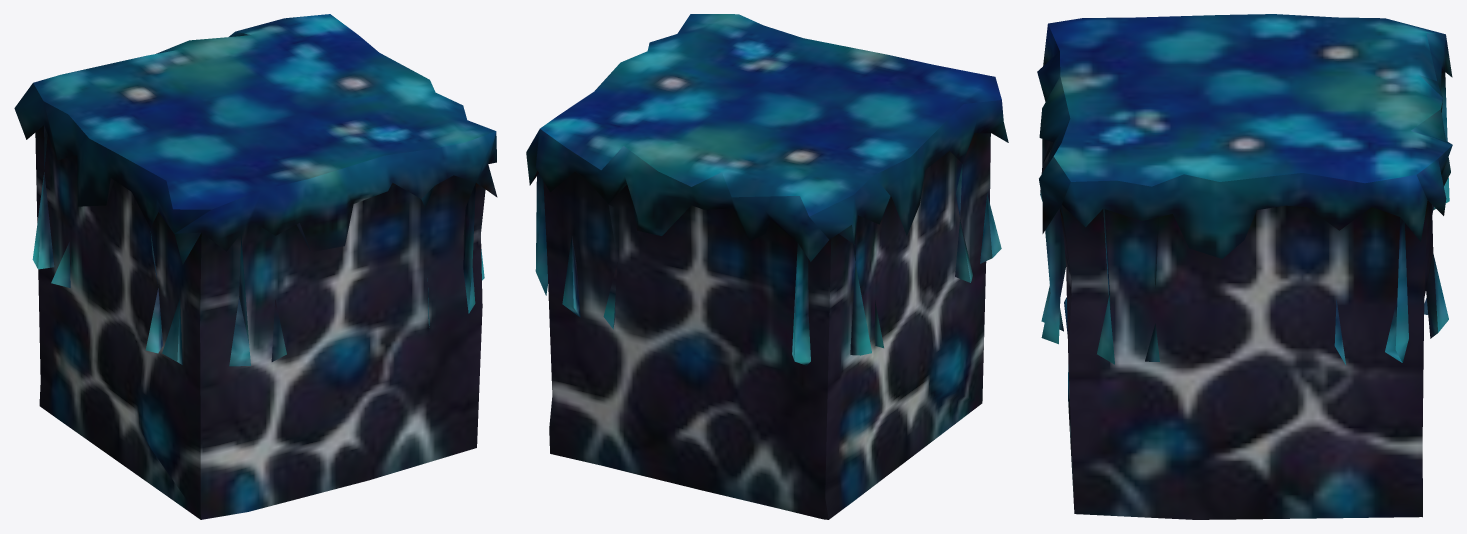
File: b_mycelium_mur_3.glb
3 renders of one model, left to right at view 1: azimuth 30°, elevation 25°; view 2: azimuth 150°, elevation 25°; view 3: azimuth 270°, elevation 25°, orthographic. The views are drawn at different scales.
Parts seen in each view (by area): view 1: geometry_0; view 2: geometry_0; view 3: geometry_0.
Part boxes in pixels (<box>): geometry_0: <box>14,14,497,519</box>; geometry_0: <box>526,14,1008,519</box>; geometry_0: <box>1037,14,1452,519</box>.
Size of the model in its own units: 1 by 0.9375 by 1.
Materials: 1 (1 with a texture image).
